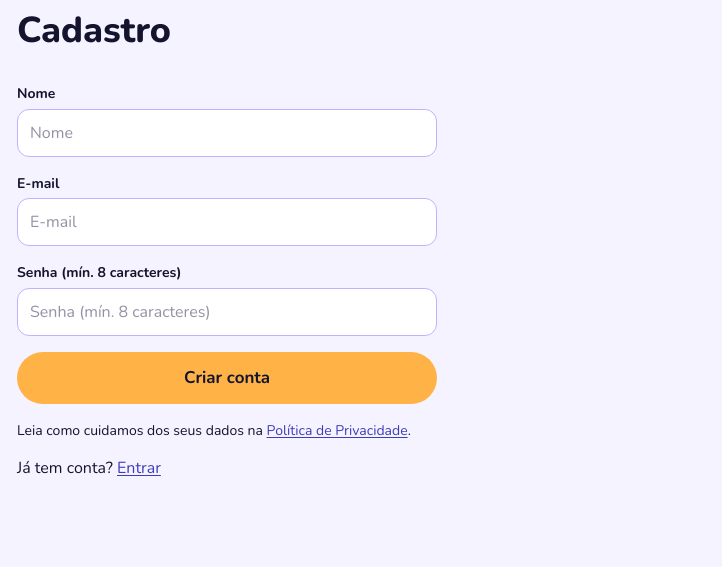
Test: tela de Cadastro › mostra o erro de e-mail duplicado vindo da API
Type "Ana" into the field with placeholder "Nome" at (227, 133), box [17,109,437,157]
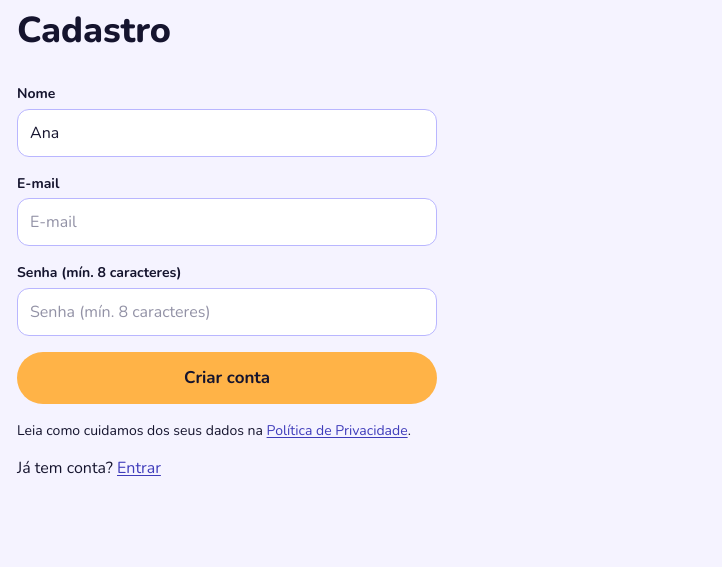
Type "ana@exemplo.com" into the field with placeholder "E-mail" at (227, 222), box [17,198,437,246]
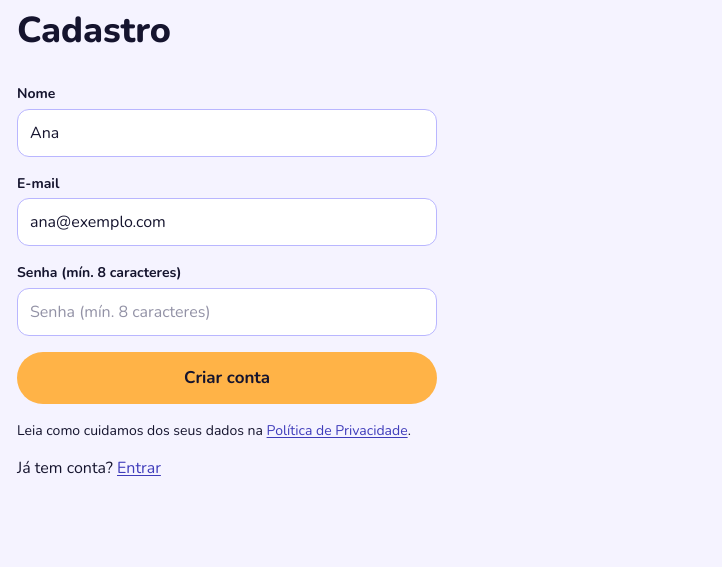
Type "senha1234" into the password field with placeholder "Senha (mín. 8 caracteres)" at (227, 312), box [17,288,437,336]
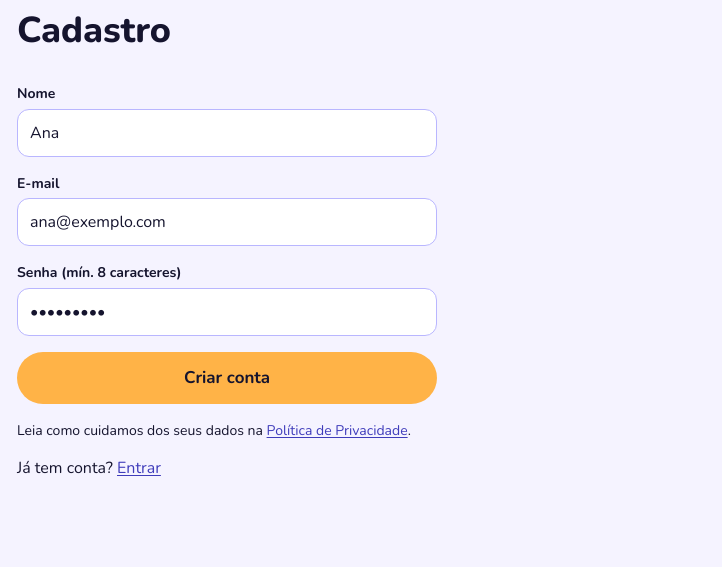
Click the button "Criar conta" at (227, 378), box [17,352,437,404]
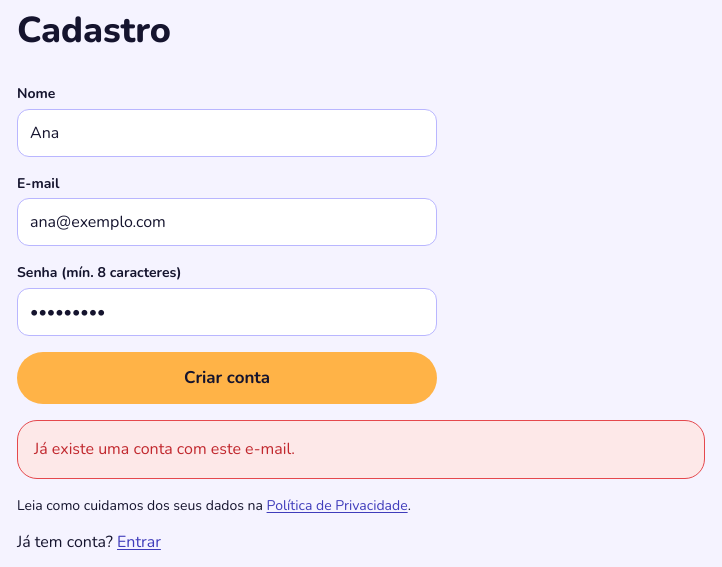
Expected: the message shows "Já existe uma conta", [34,438,295,460]
